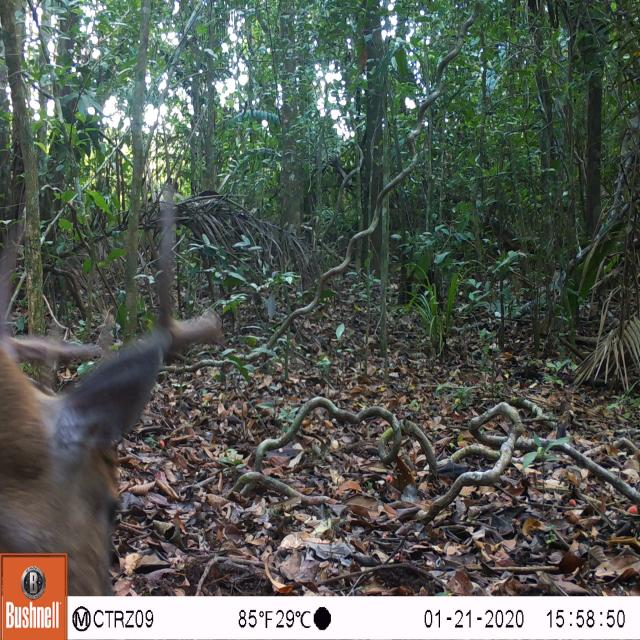White-tailed Deer: (0, 178, 225, 594)
